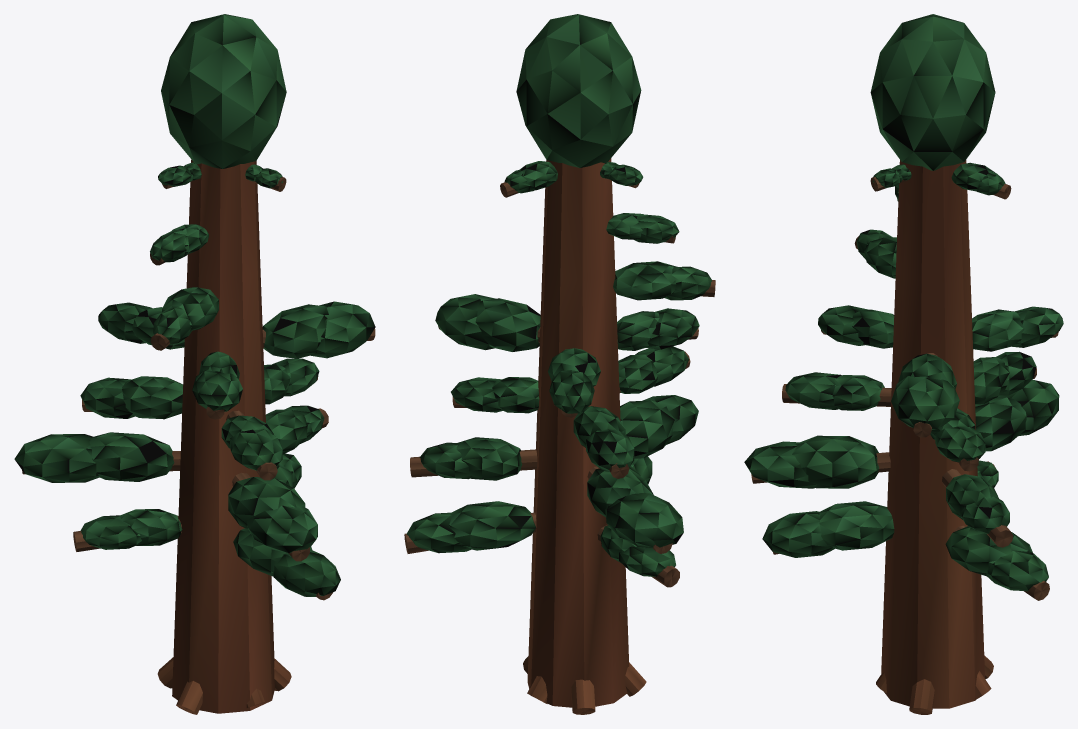
The model's file is mature-lod1.glb.
3 views of the same model, side by side, from view 1: azimuth 30°, elevation 25°; view 2: azimuth 150°, elevation 25°; view 3: azimuth 270°, elevation 25° (orthographic).
Visible parts, largest first — view 1: pine-trunk-branches-needles; view 2: pine-trunk-branches-needles; view 3: pine-trunk-branches-needles.
Boxes of the visible parts, box(x1,y1,x2,y2) form: pine-trunk-branches-needles: box(14, 14, 375, 714); pine-trunk-branches-needles: box(404, 14, 715, 714); pine-trunk-branches-needles: box(744, 14, 1063, 714).
Bounding box in the file's own units: 11.51 × 25.12 × 10.75.
